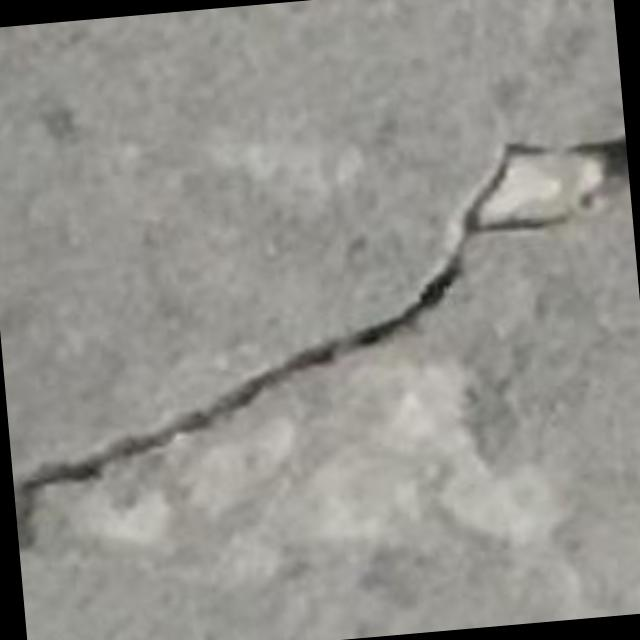crack: (14, 131, 628, 506)
peeling plaster: (95, 363, 546, 544)
